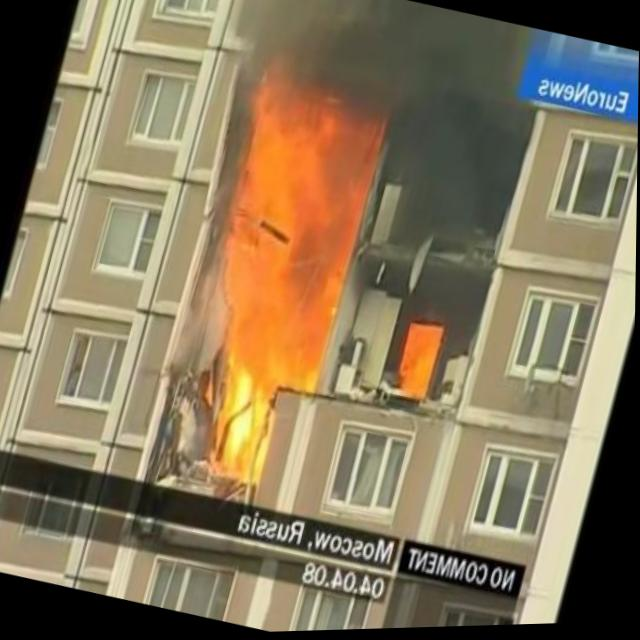fire: (151, 68, 391, 492), (390, 320, 443, 404)
